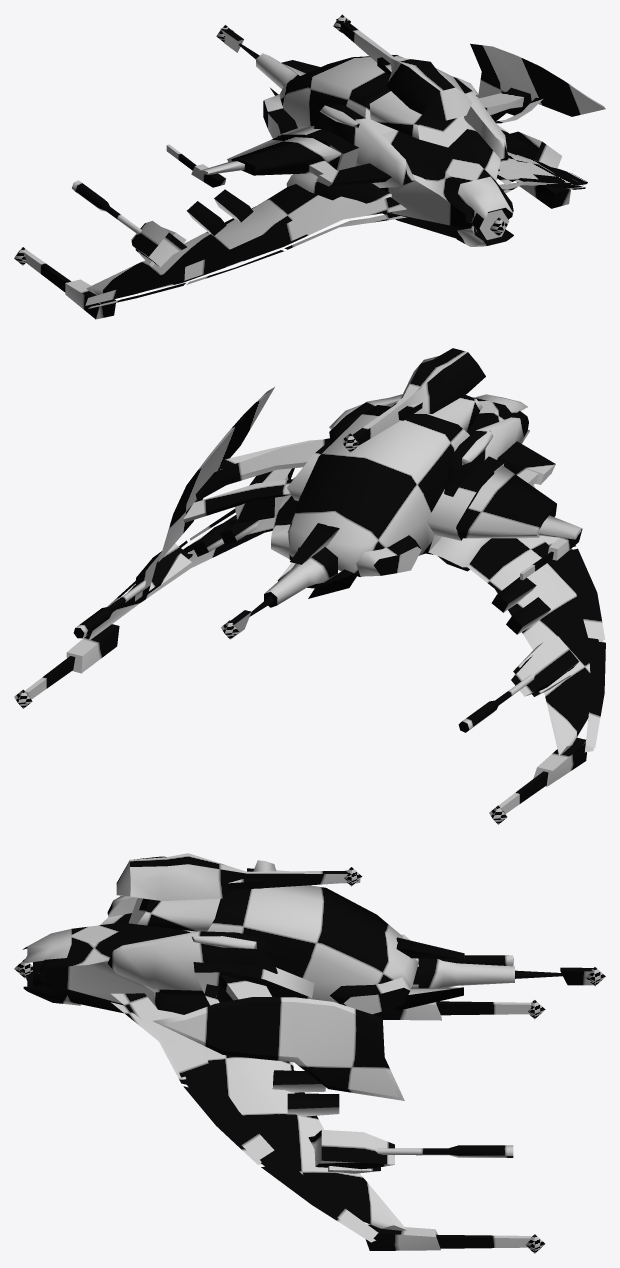
The model's file is defcom.obj.
3 renders of one model, top to bottom at view 1: azimuth 30°, elevation 25°; view 2: azimuth 150°, elevation 25°; view 3: azimuth 270°, elevation 25°, orthographic. The views are drawn at different scales.
Parts seen in each view (by area): view 1: defcom; view 2: defcom; view 3: defcom.
Boxes of the visible parts, x1=… form: defcom: x1=23, y1=19, x2=605, y2=319; defcom: x1=25, y1=348, x2=605, y2=813; defcom: x1=22, y1=853, x2=593, y2=1250.
Bounding box in the file's own units: 79.74 × 41.27 × 79.62.
6 materials, 6 textured.
